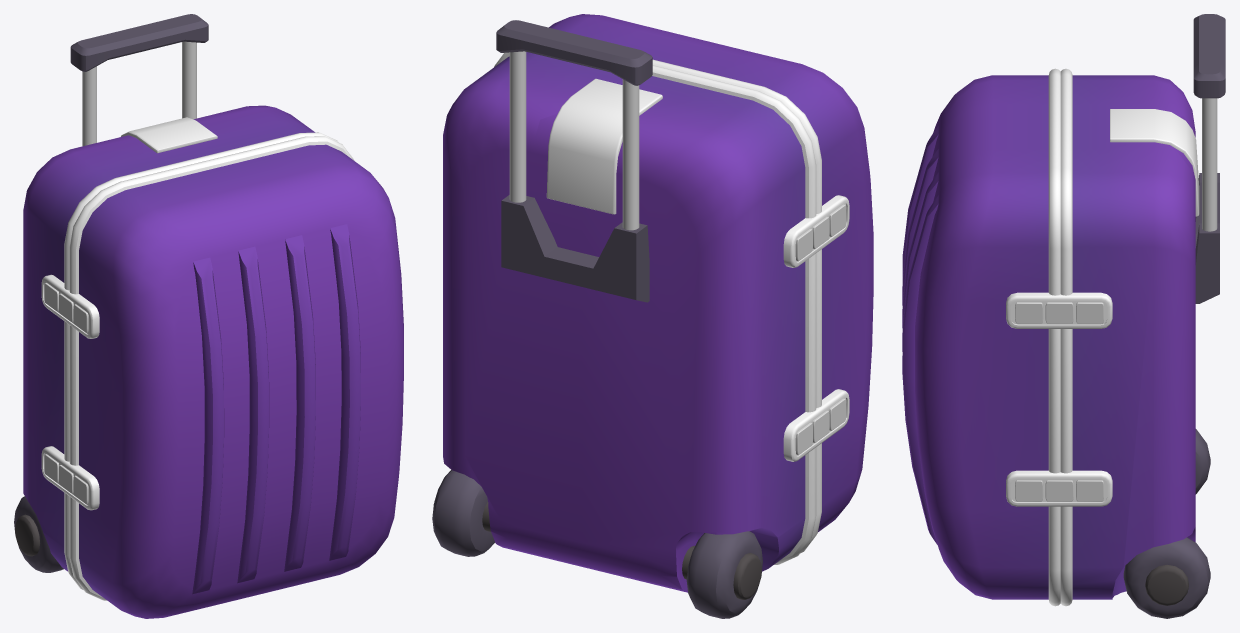
Rendered from Baggage_Purple.fbx.
3 renders of one model, left to right at view 1: azimuth 30°, elevation 25°; view 2: azimuth 150°, elevation 25°; view 3: azimuth 270°, elevation 25°, orthographic. The views are drawn at different scales.
Parts seen in each view (by area): view 1: Baggage_Purple; view 2: Baggage_Purple; view 3: Baggage_Purple.
Part boxes in pixels (bbox=[...]): Baggage_Purple: bbox=[14, 14, 403, 618]; Baggage_Purple: bbox=[432, 14, 873, 618]; Baggage_Purple: bbox=[902, 14, 1225, 618].
Bounding box in the file's own units: 66.35 × 107 × 61.04.
